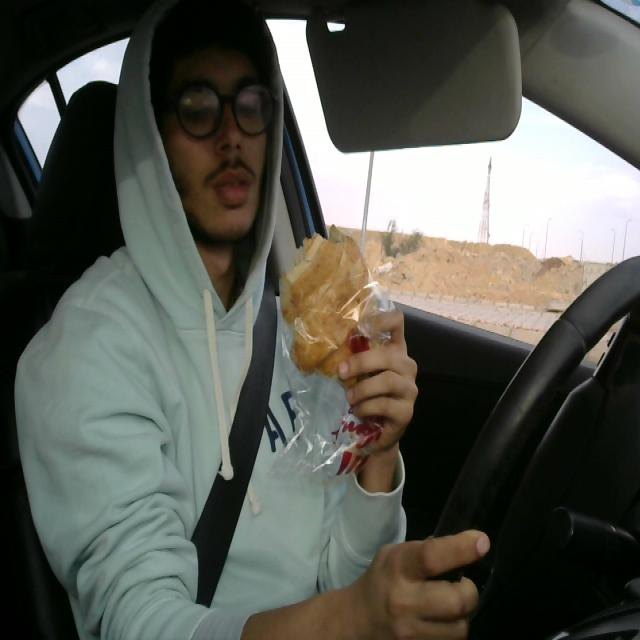eating: (278, 222, 401, 402)
